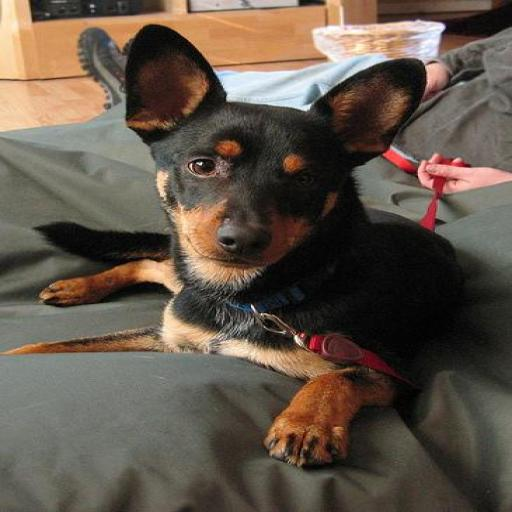dog_face: (115, 23, 426, 274)
